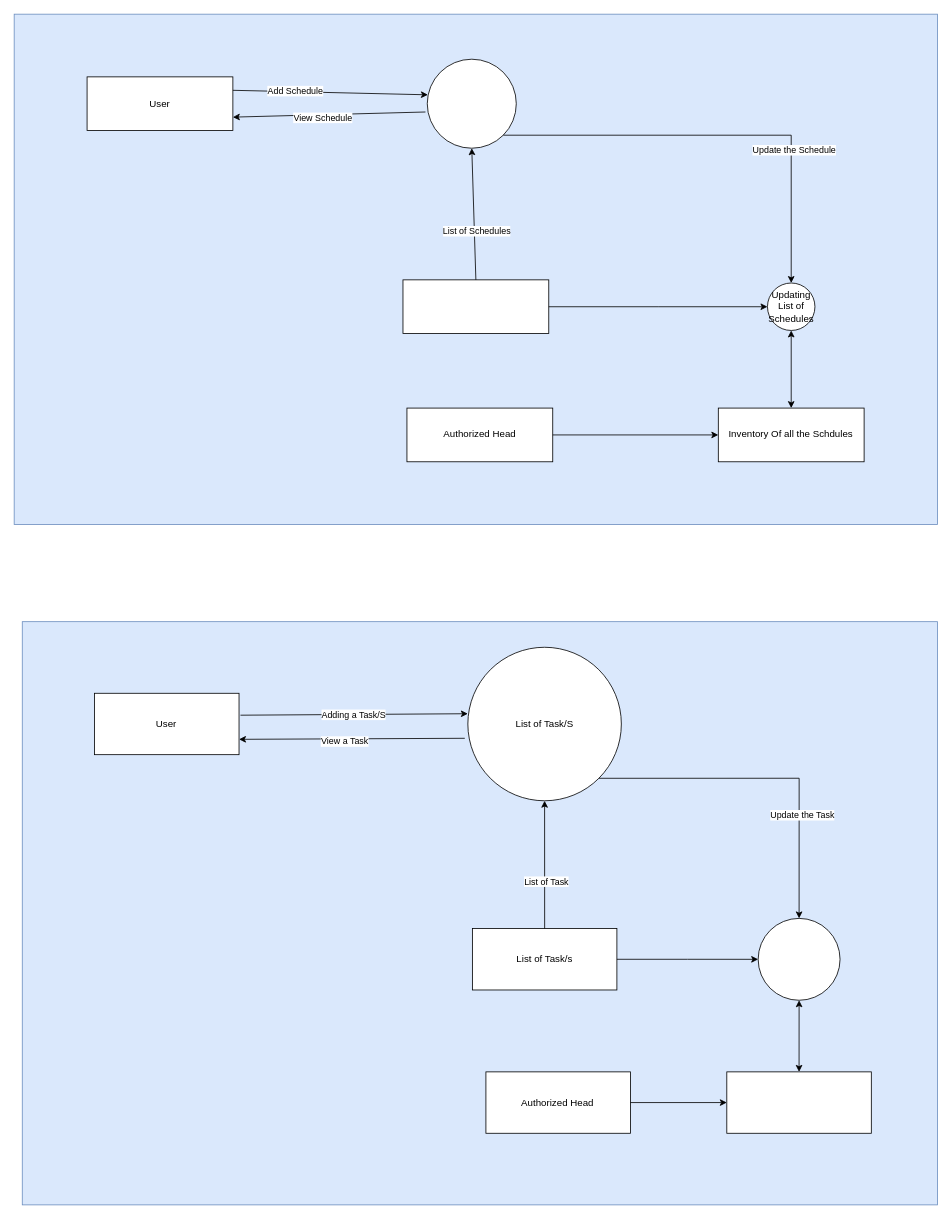
This 952x1219 diagram has some shape labels left out. The centre of each missing label's shape, as x and y in pixels:
Daily Task/ Schedules: pixel 471 103
Inventory Of all the Task: pixel 798 1102
List of Daily Task: pixel 475 306
Updating List of Task: pixel 798 959
